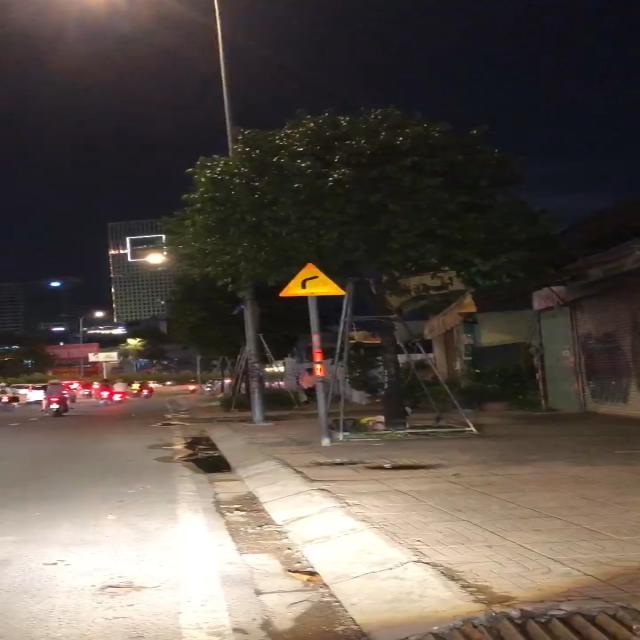Bien bao cho ngoat nguy hiem: (276, 259, 353, 298)
